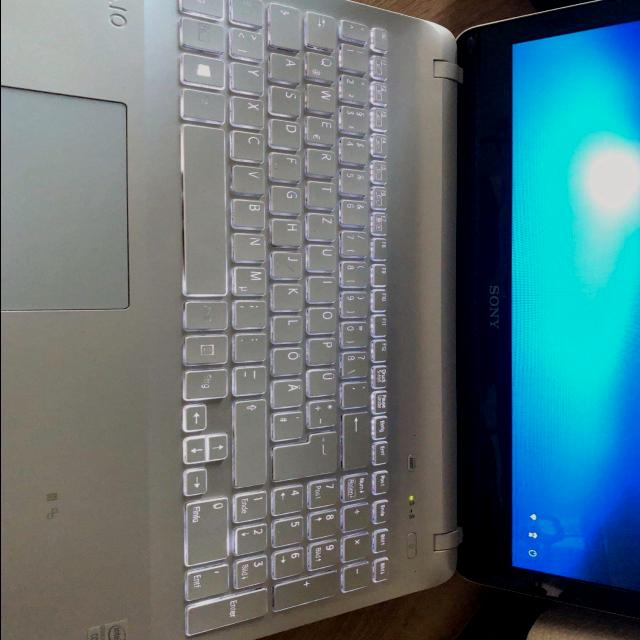0: (342, 319, 371, 347)
1: (341, 41, 371, 71)
2: (342, 73, 372, 102)
3: (341, 104, 371, 133)
4: (341, 136, 371, 163)
5: (341, 167, 371, 194)
6: (341, 198, 371, 225)
7: (342, 229, 370, 255)
8: (342, 260, 371, 286)
9: (342, 290, 371, 316)
a: (270, 51, 304, 82)
accent: (343, 380, 372, 406)
ae: (273, 377, 305, 407)
alt-left: (182, 87, 228, 121)
altgr-right: (185, 299, 231, 329)
b: (233, 196, 269, 228)
c: (233, 128, 268, 160)
caret: (343, 18, 371, 40)
comma: (236, 297, 270, 327)
d: (270, 117, 304, 147)
del: (344, 410, 373, 466)
e: (307, 114, 339, 144)
enter: (275, 429, 341, 481)
f: (271, 150, 305, 180)
g: (271, 184, 305, 213)
h: (272, 217, 304, 245)
hash: (274, 409, 306, 439)
i: (309, 274, 339, 301)
j: (273, 249, 306, 277)
k: (274, 282, 306, 310)
keyboard: (170, 0, 411, 635)
l: (273, 314, 305, 342)
less: (232, 26, 268, 59)
m: (235, 264, 269, 294)
minus: (236, 364, 270, 394)
n: (235, 231, 269, 261)
o: (309, 305, 339, 332)
oe: (273, 346, 305, 374)
p: (309, 336, 339, 363)
plus: (310, 398, 341, 426)
point: (236, 331, 270, 361)
q: (307, 50, 339, 80)
r: (308, 147, 339, 175)
s: (270, 84, 304, 114)
shift-left: (232, 1, 267, 25)
shift-lock: (270, 1, 305, 48)
shift-right: (236, 396, 270, 486)
space: (183, 123, 230, 295)
ss: (343, 350, 371, 376)
strg-left: (181, 1, 227, 17)
strg-right: (185, 366, 230, 398)
t: (308, 179, 338, 207)
tab: (307, 10, 340, 48)
u: (308, 242, 339, 270)
ue: (309, 367, 339, 395)
v: (233, 163, 268, 193)
w: (307, 81, 339, 111)
x: (232, 95, 267, 126)
y: (232, 61, 267, 93)
z: (308, 211, 339, 239)
